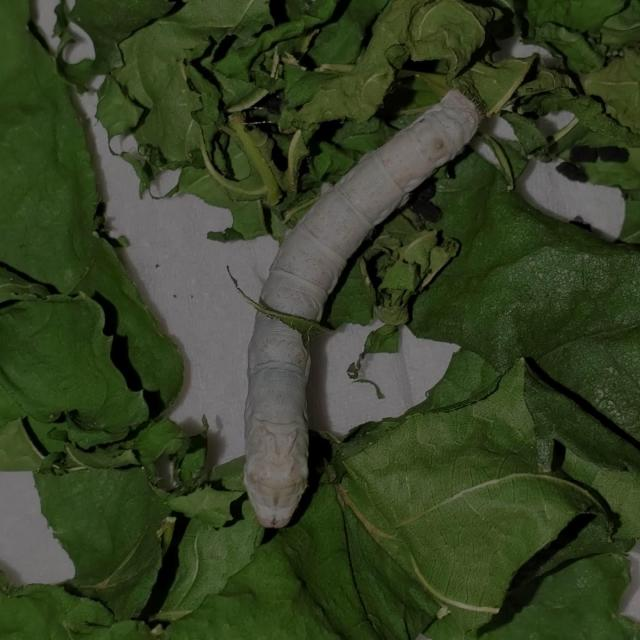Healthy: (232, 84, 488, 534)
